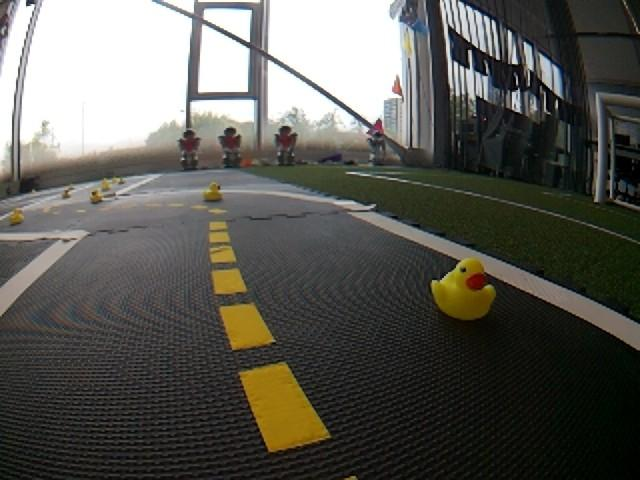Duckies: (428, 259, 494, 321), (203, 182, 221, 202), (8, 208, 24, 224), (90, 190, 102, 202), (101, 178, 110, 190), (62, 190, 70, 197), (69, 183, 75, 190), (119, 177, 124, 184), (112, 176, 117, 183), (32, 189, 36, 196)
